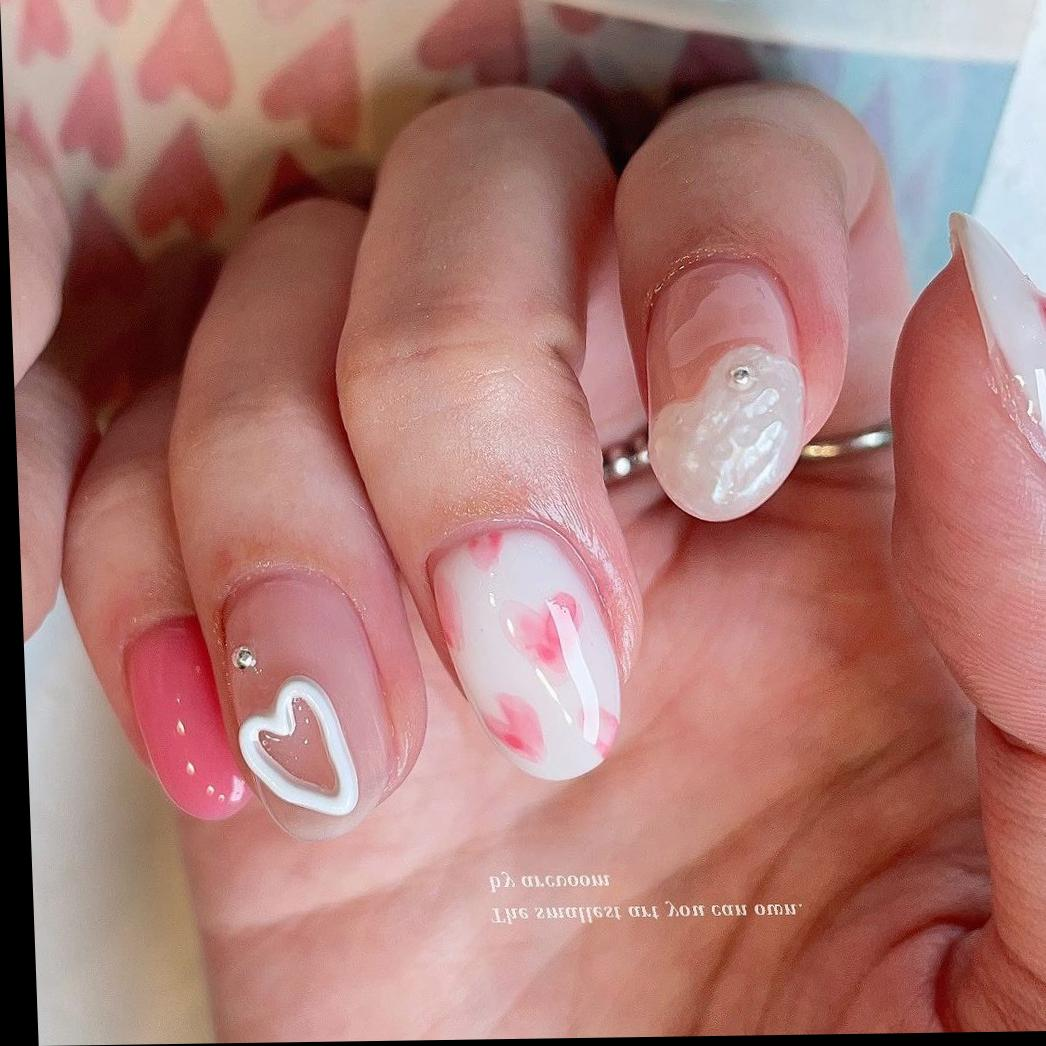nail: (424, 519, 625, 786), (638, 254, 812, 526), (224, 571, 391, 839), (946, 210, 1046, 501), (120, 617, 252, 825)
